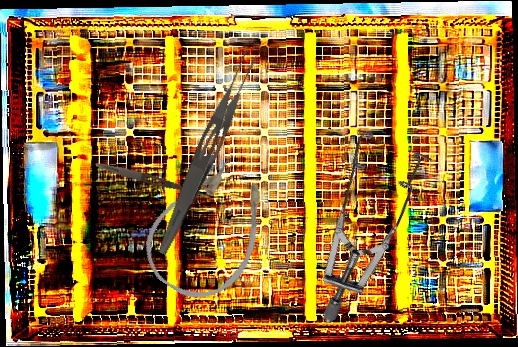Cannula: (129, 142, 292, 316)
Dressing Forceps: (153, 47, 263, 260), (94, 159, 212, 201)
Speculum: (244, 105, 474, 326)
